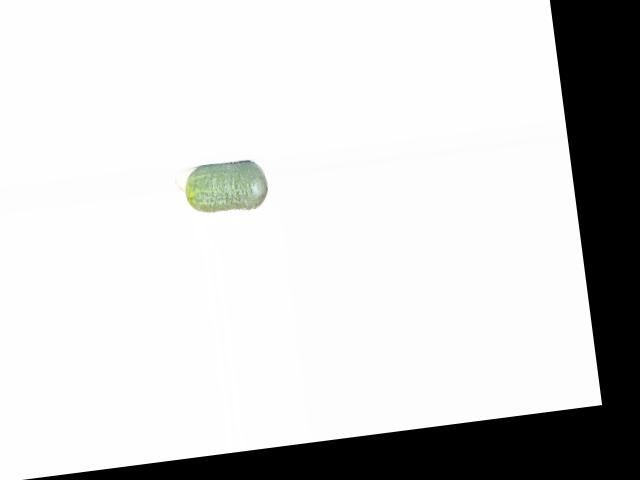cucumber: (172, 157, 269, 219)
